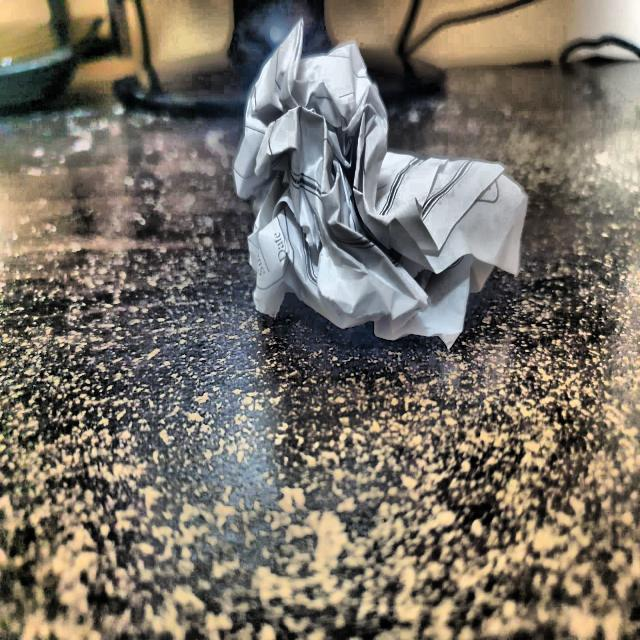Paper: (230, 11, 536, 358)
